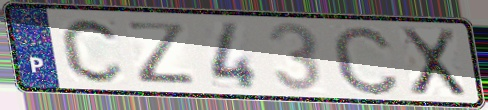3: (265, 20, 326, 95)
4: (207, 19, 260, 91)
C: (328, 22, 403, 98), (58, 15, 128, 85)
X: (396, 25, 469, 99)
Z: (123, 19, 198, 86)
